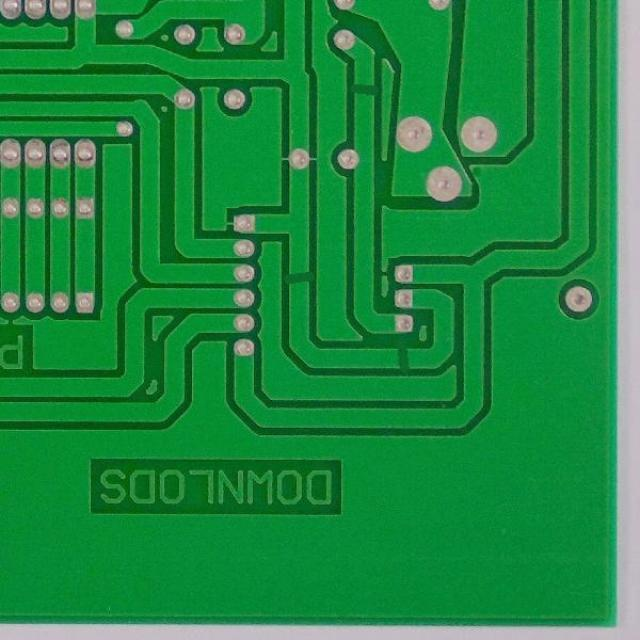Open_Circuit: (337, 77, 384, 106), (274, 268, 320, 292), (391, 343, 419, 377)
